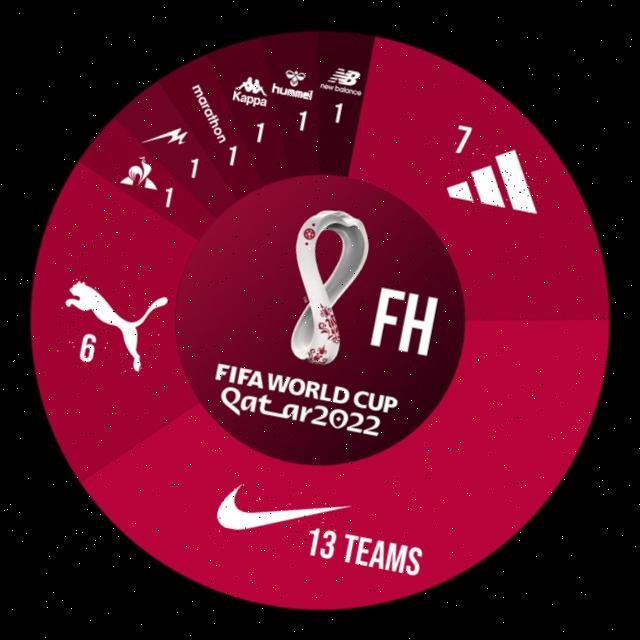Adidas: (444, 138, 550, 216)
Nike: (215, 478, 355, 556)
Puma: (53, 275, 171, 378)
